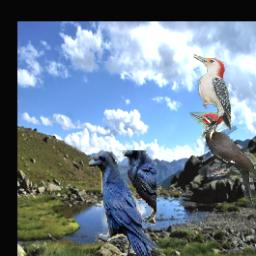Crow: (87, 151, 156, 256)
Woodpecker: (190, 112, 256, 209), (192, 54, 232, 137)
